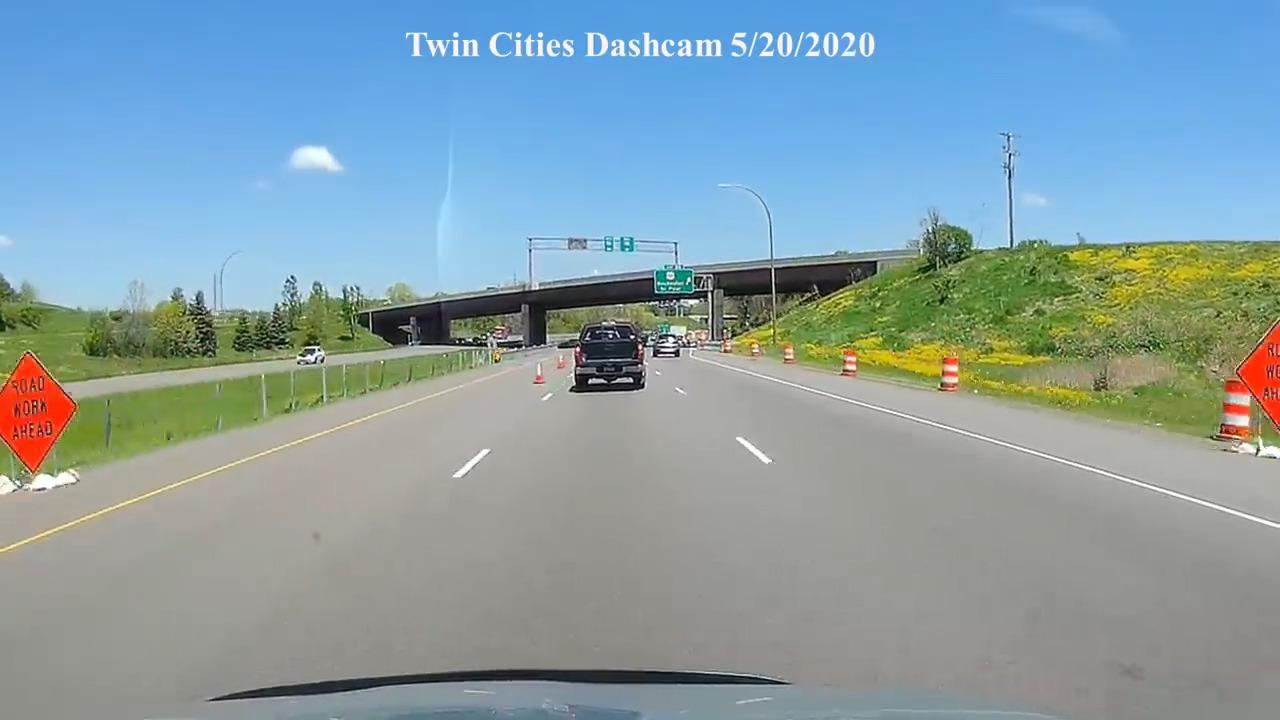car: (572, 319, 648, 392), (652, 334, 681, 358), (296, 345, 326, 366)
traffic cone: (1215, 378, 1253, 442), (937, 355, 959, 392), (839, 349, 859, 378), (782, 342, 796, 365), (534, 363, 545, 384), (722, 333, 732, 354), (750, 342, 763, 358)
